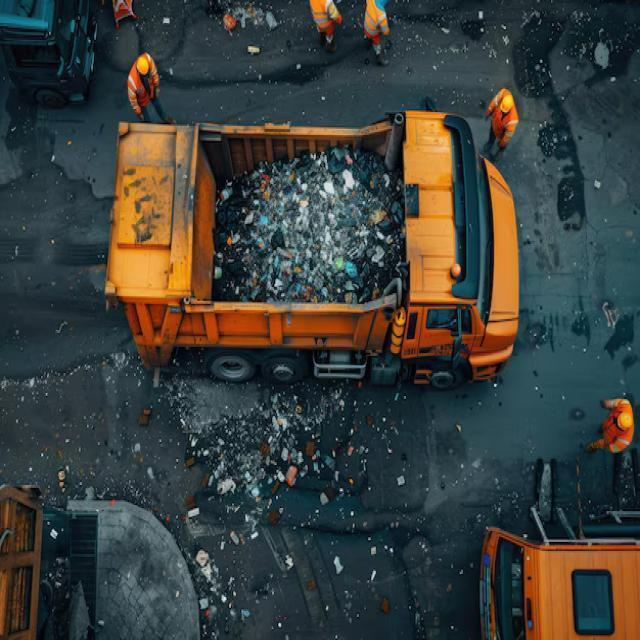uncovered: (112, 98, 496, 376)
